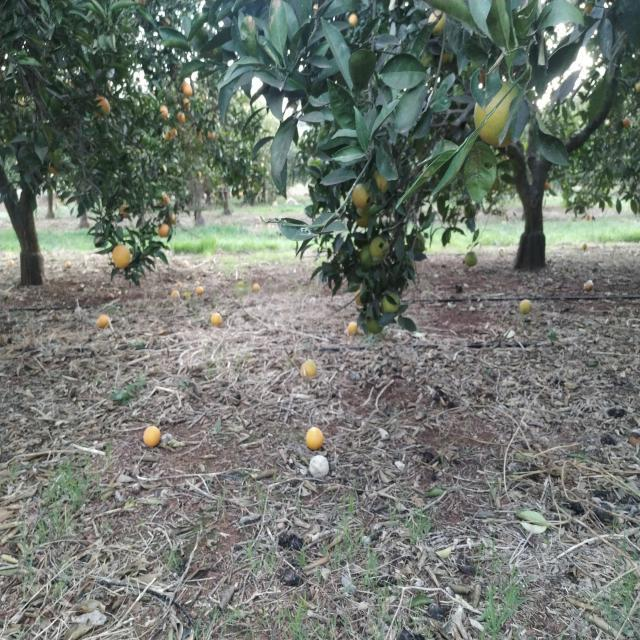Jeruk Belum Matang: (476, 84, 524, 148), (370, 237, 390, 262), (352, 183, 372, 208), (428, 10, 446, 34), (383, 293, 400, 314), (366, 316, 383, 336), (354, 207, 370, 226), (374, 172, 387, 192), (358, 245, 371, 264), (465, 252, 478, 268), (520, 299, 532, 313)
Jeruk Sudah Matang: (305, 427, 325, 450), (112, 245, 131, 268), (144, 426, 162, 448), (300, 359, 318, 378), (94, 98, 110, 118), (98, 314, 110, 330), (158, 223, 170, 238), (211, 312, 222, 326), (347, 320, 357, 334)
